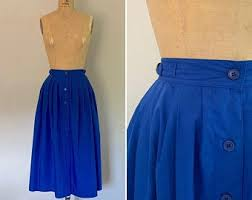C_skirt: (24, 71, 107, 200)
